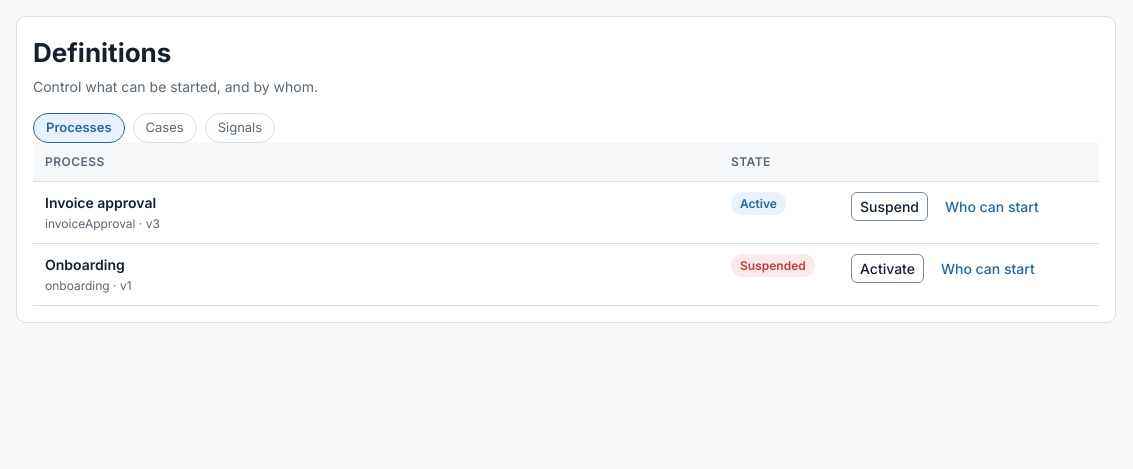
Scenario: Definitions — signals › cannot broadcast an empty signal name
Step 1. Click the tab "Signals" → click(240, 128), box 205,113 -> 275,142
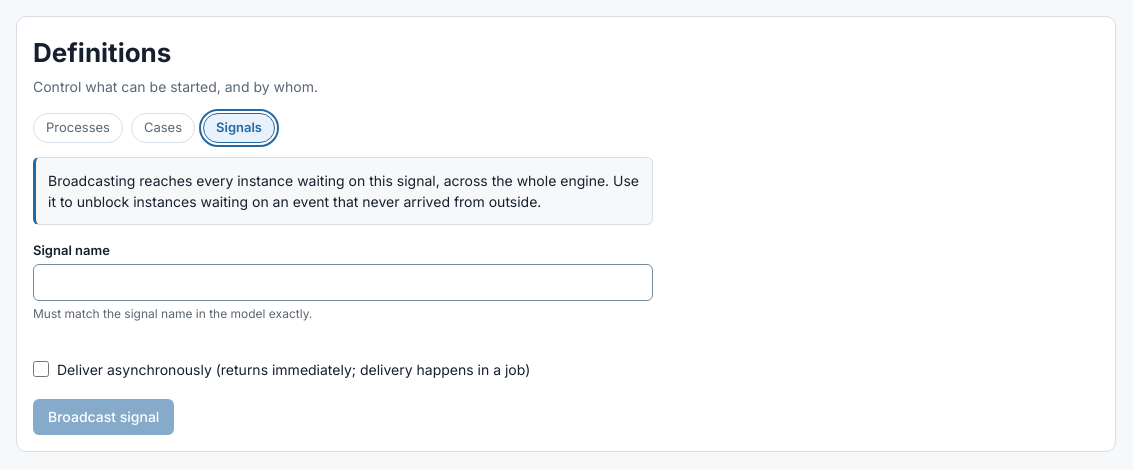
Check: the button "Broadcast signal" is disabled, box 33,399 -> 174,435
